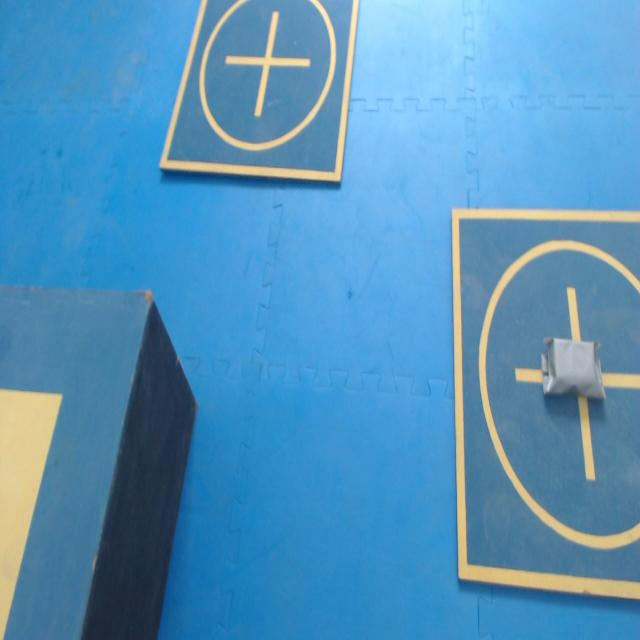lipo: (542, 338, 605, 397)
